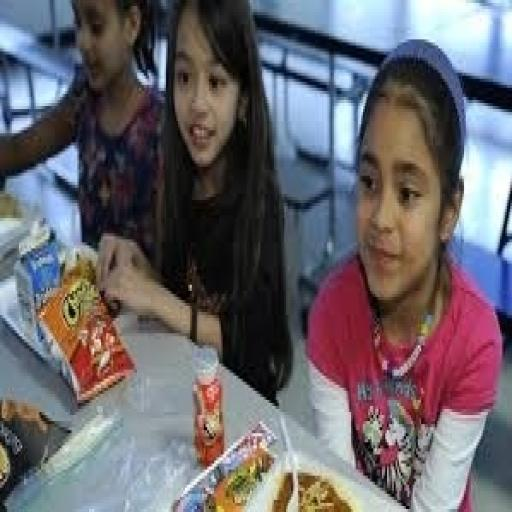eating: (5, 3, 504, 506), (303, 36, 504, 509)
